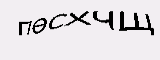П: (18, 19, 31, 36)
С: (47, 13, 67, 30)
Х: (64, 11, 92, 28)
Ч: (91, 9, 114, 30)
Щ: (118, 10, 154, 37)
Ө: (31, 16, 47, 35)
